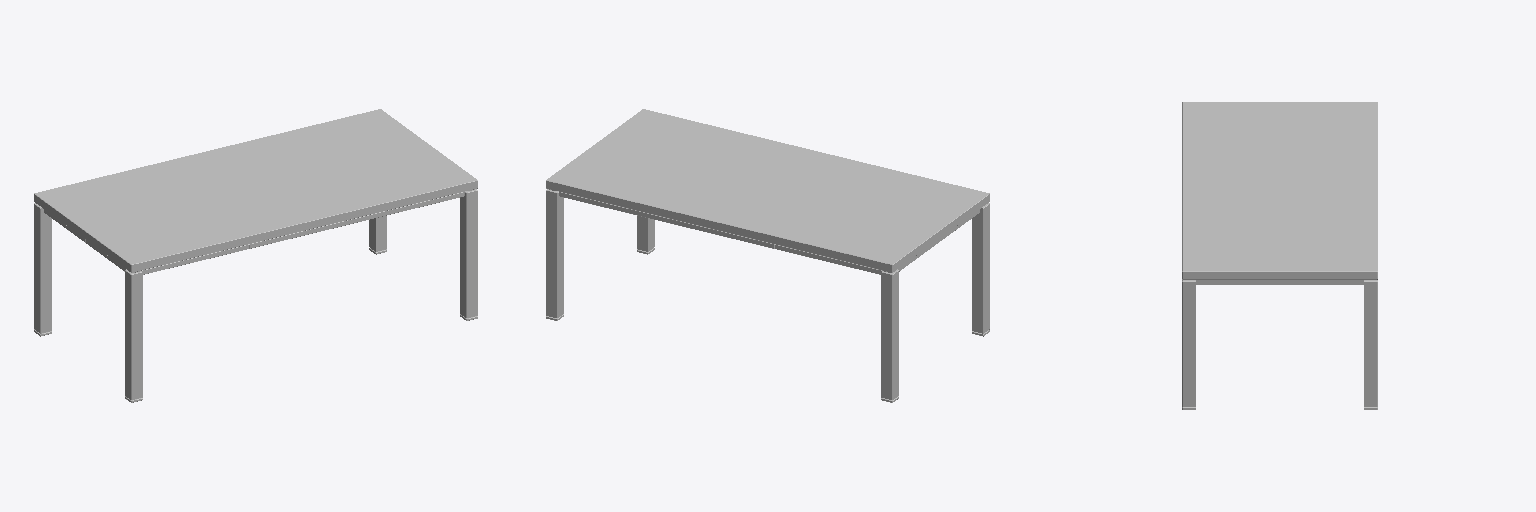
The model's file is 3ds桌子.obj.
The picture shows the model from 3 angles: view 1: azimuth 30°, elevation 25°; view 2: azimuth 150°, elevation 25°; view 3: azimuth 270°, elevation 25°; orthographic projection.
Visible parts, largest first — view 1: obj_01, obj_03; view 2: obj_01, obj_03; view 3: obj_01, obj_03.
Boxes of the visible parts, <box> form: obj_01: <box>34,109,477,272</box>; obj_03: <box>34,189,477,402</box>; obj_01: <box>546,109,989,272</box>; obj_03: <box>546,189,989,402</box>; obj_01: <box>1182,102,1377,279</box>; obj_03: <box>1182,280,1377,409</box>.
Size of the model in its own units: 88.14 by 33.56 by 42.98.